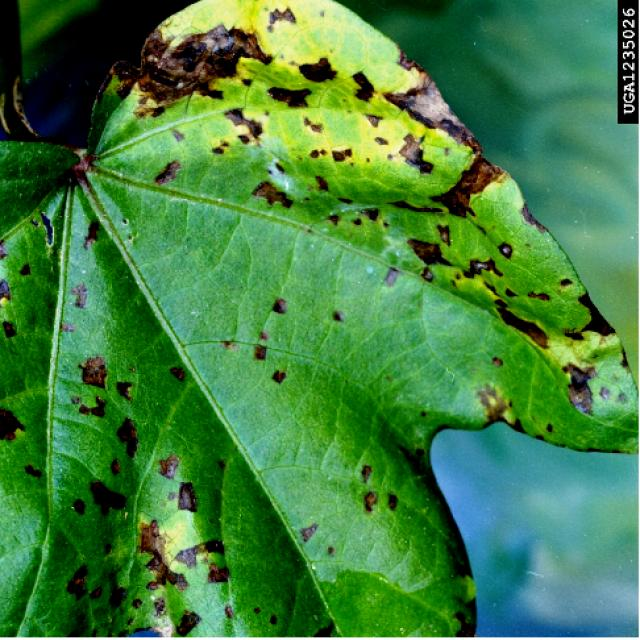Bacterial Blight: (146, 29, 493, 299), (45, 340, 249, 640)
